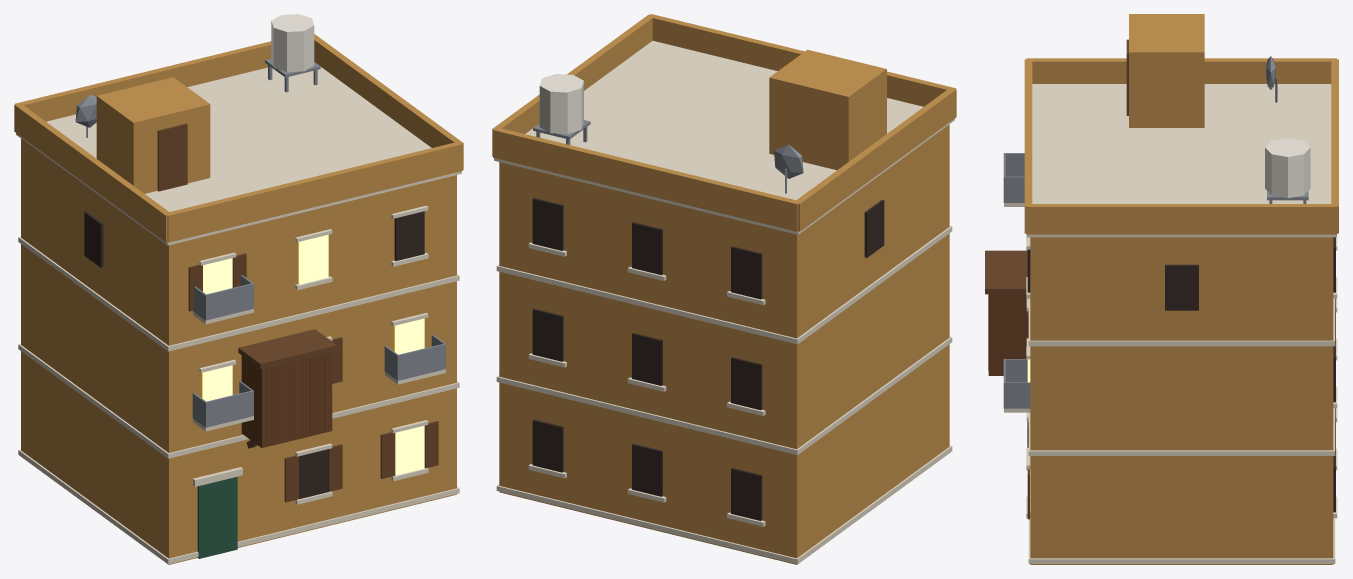
File: hus_kairo_4.glb
3 views of the same model, side by side, from view 1: azimuth 30°, elevation 25°; view 2: azimuth 150°, elevation 25°; view 3: azimuth 270°, elevation 25° (orthographic). The views are drawn at different scales.
Parts seen in each view (by area): view 1: hus_kairo_4; view 2: hus_kairo_4; view 3: hus_kairo_4.
Boxes of the visible parts, x1,y1,x2,y2 form: hus_kairo_4: [14, 14, 463, 564]; hus_kairo_4: [492, 14, 956, 564]; hus_kairo_4: [985, 14, 1338, 564].
Bounding box in the file's own units: 9.3 × 12.05 × 9.35.
